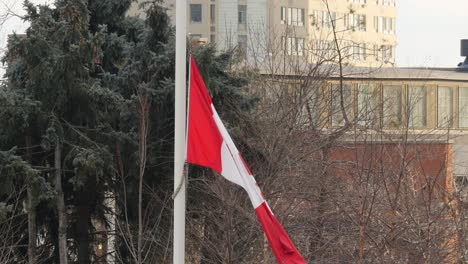Canada flag: (184, 53, 310, 261)
